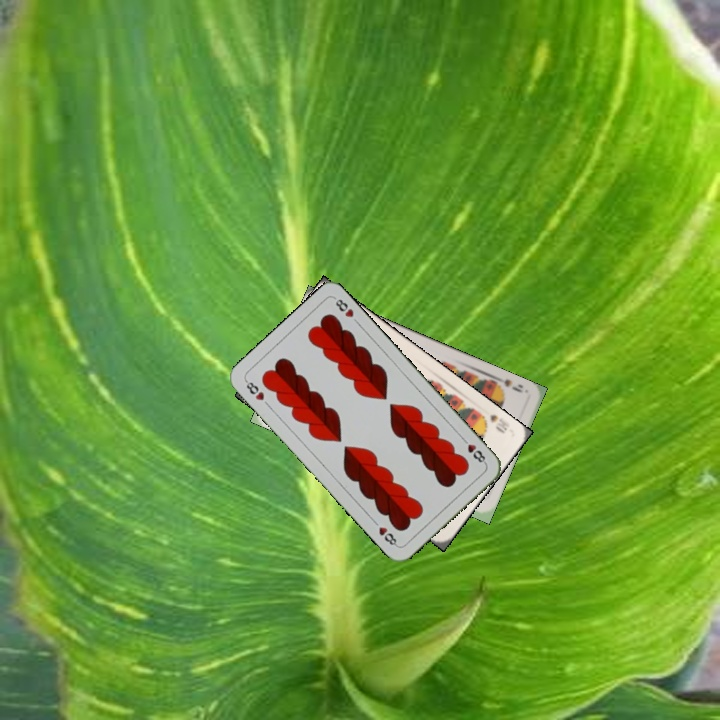H8: (458, 433, 489, 467), (241, 376, 267, 403)
S10: (475, 409, 512, 436)
S9: (489, 372, 529, 396)
